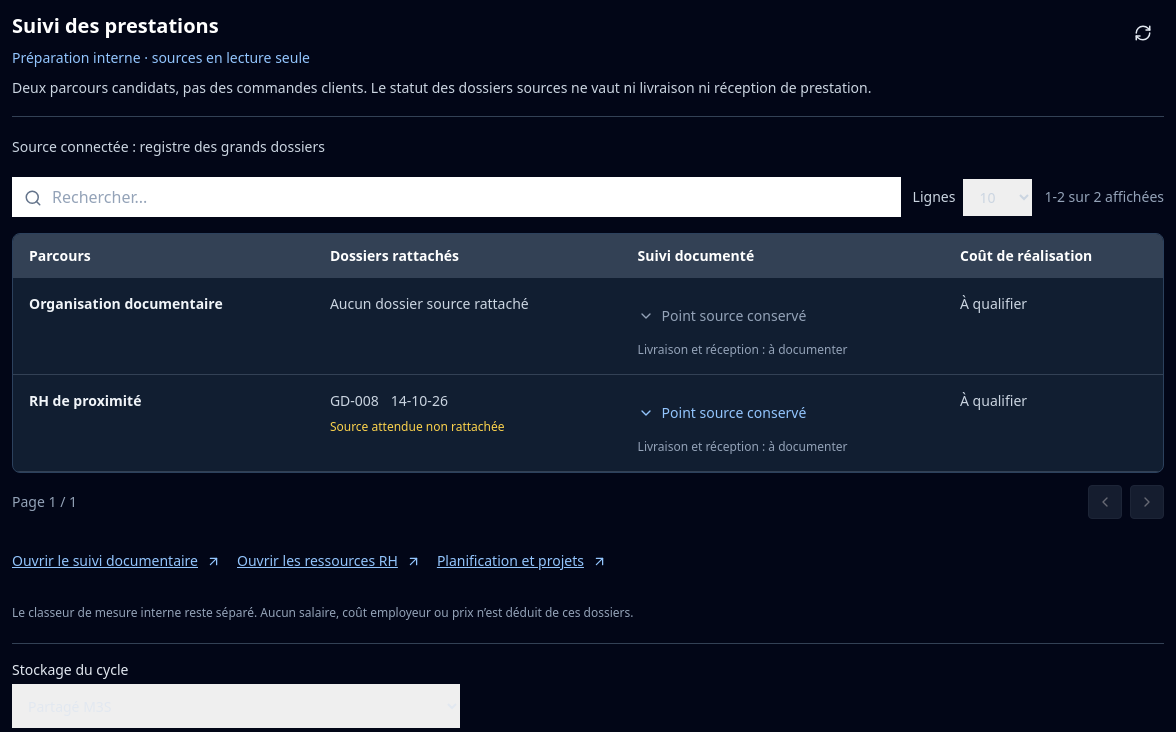
Test case: refresh clears an old success when the next source fails
Expected: the text "GD-008" is shown, [330, 391, 379, 410]
Click the button named "Actualiser" at (1143, 33), box [1122, 12, 1164, 54]
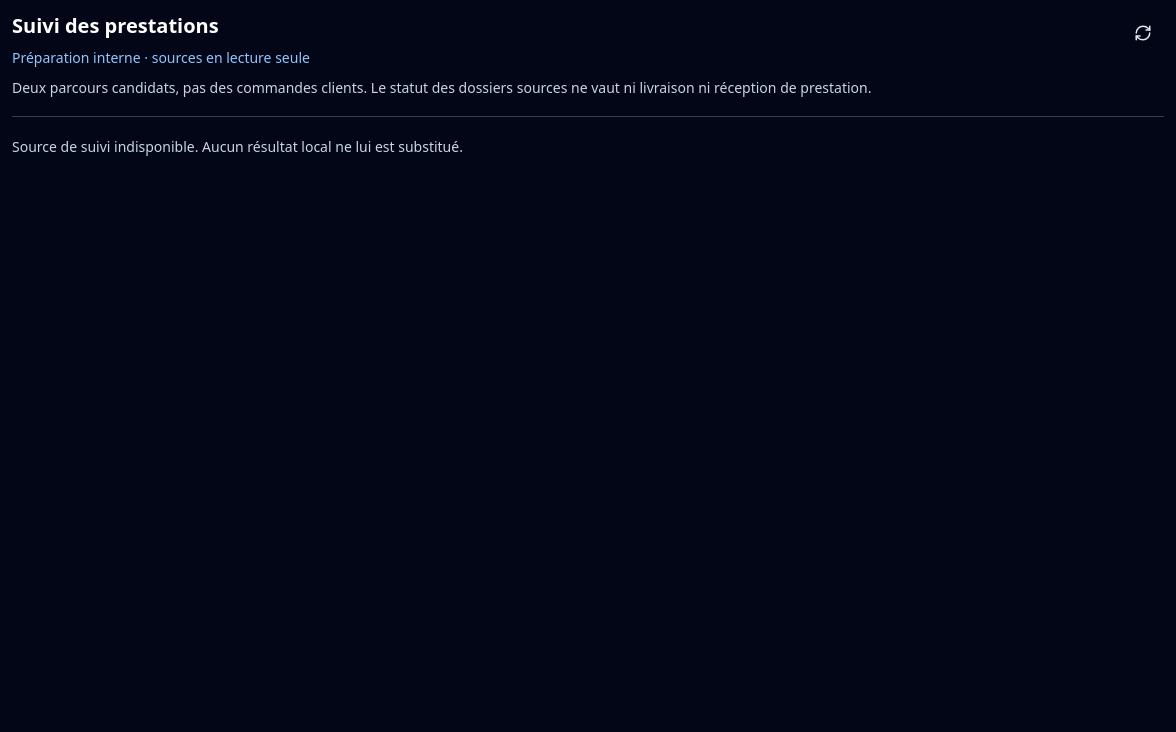
Result: the message "Source de suivi indisponible. Aucun résultat local ne lui est substitué." is shown at [12, 137, 463, 156]
Result: the text "GD-008" is gone
